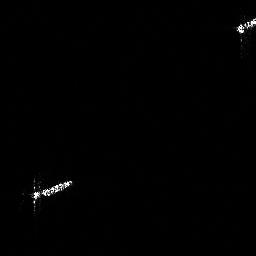ship: (24, 175, 76, 214), (233, 15, 256, 36)
